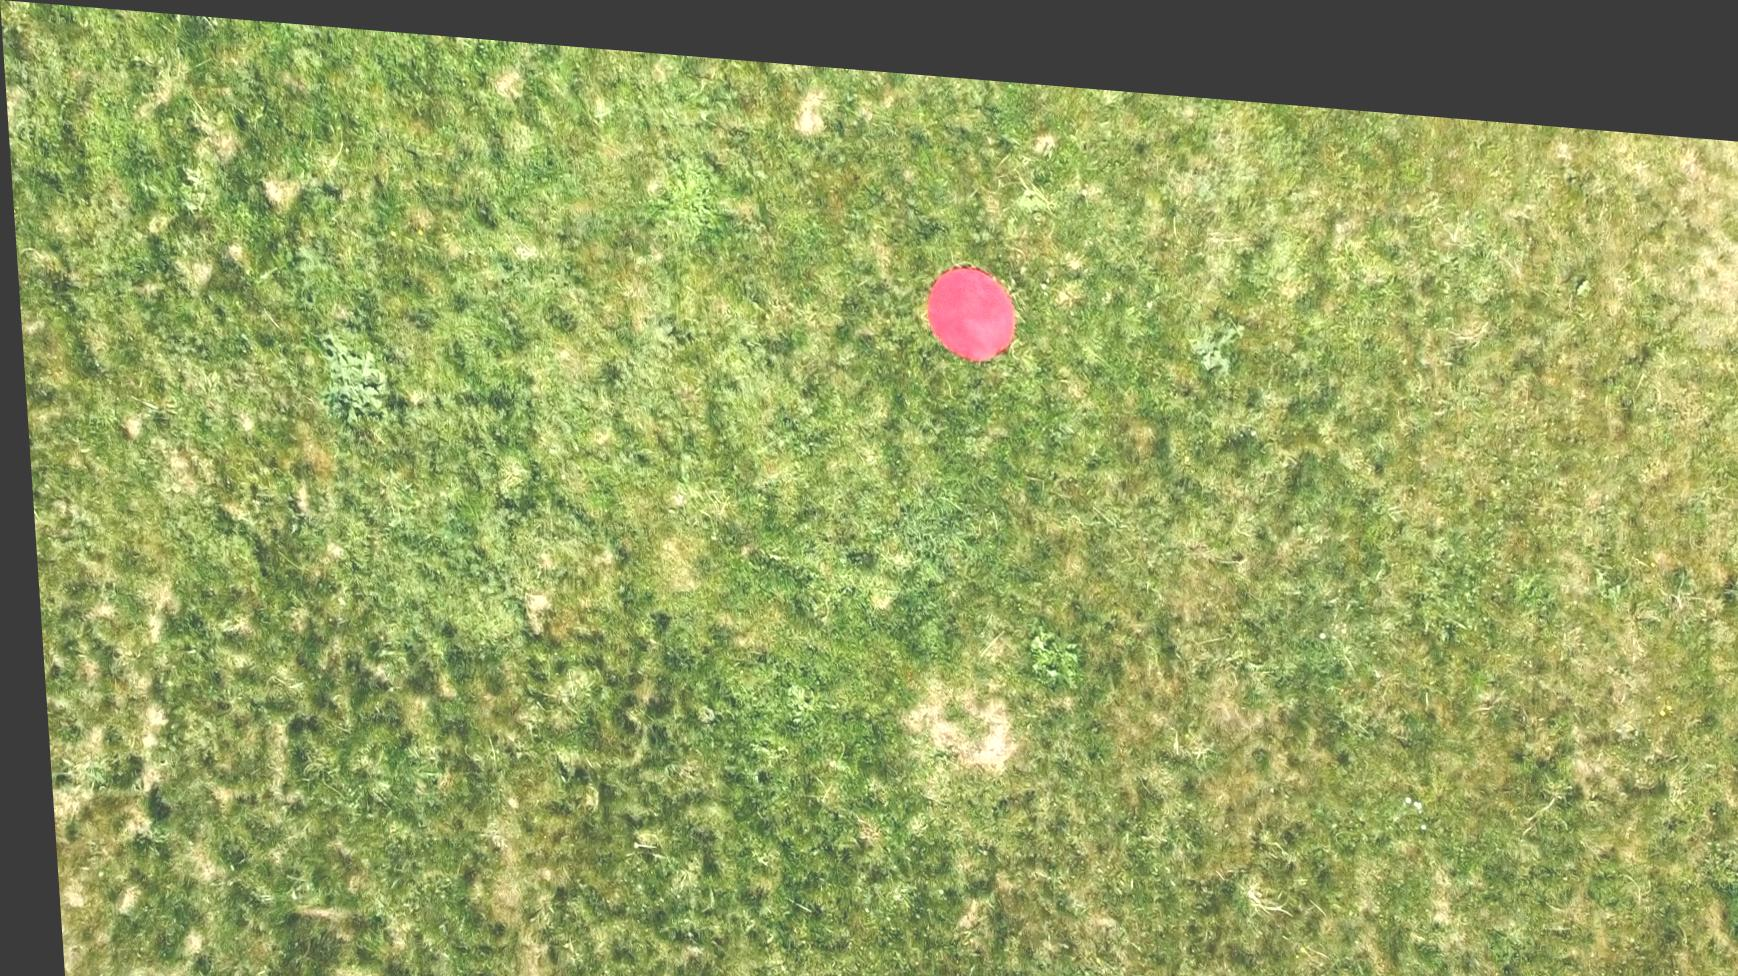Red: (922, 242, 1021, 348)
